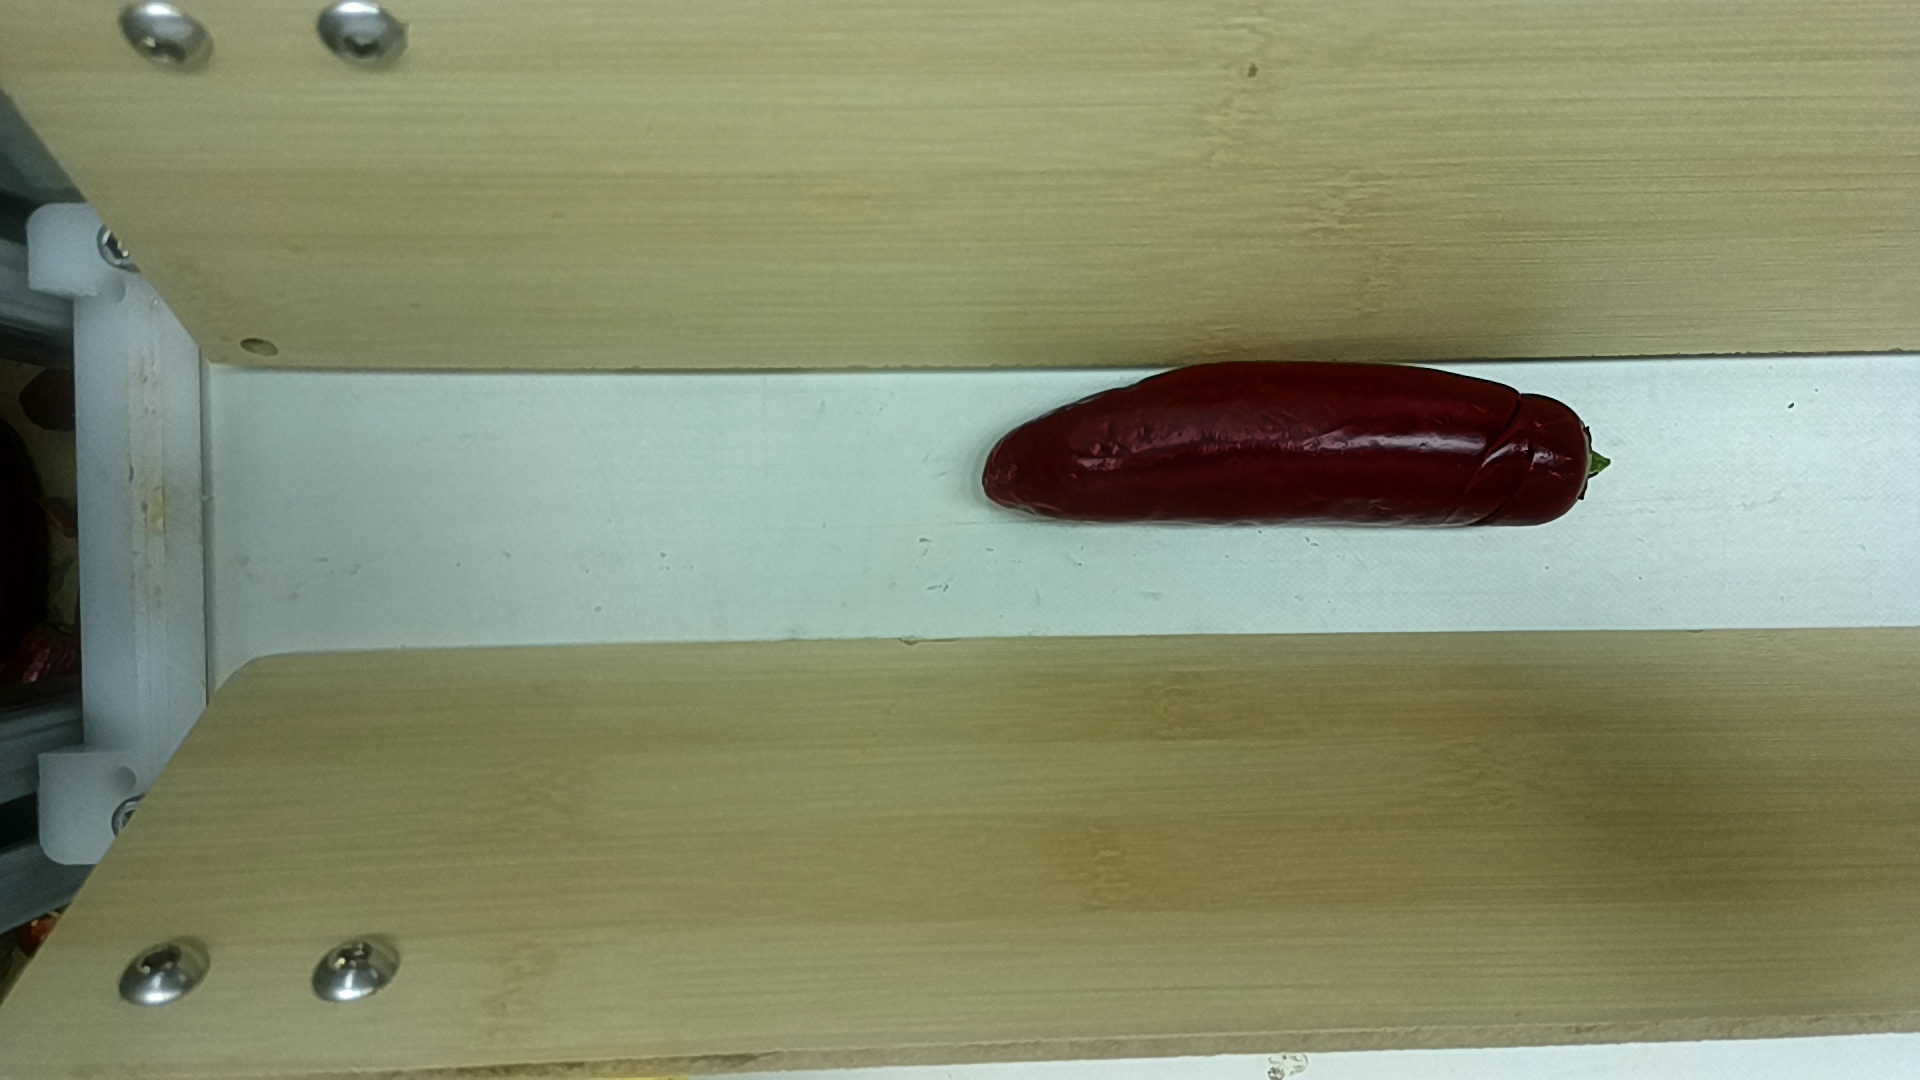Cut Point: (1545, 386, 1613, 541)
